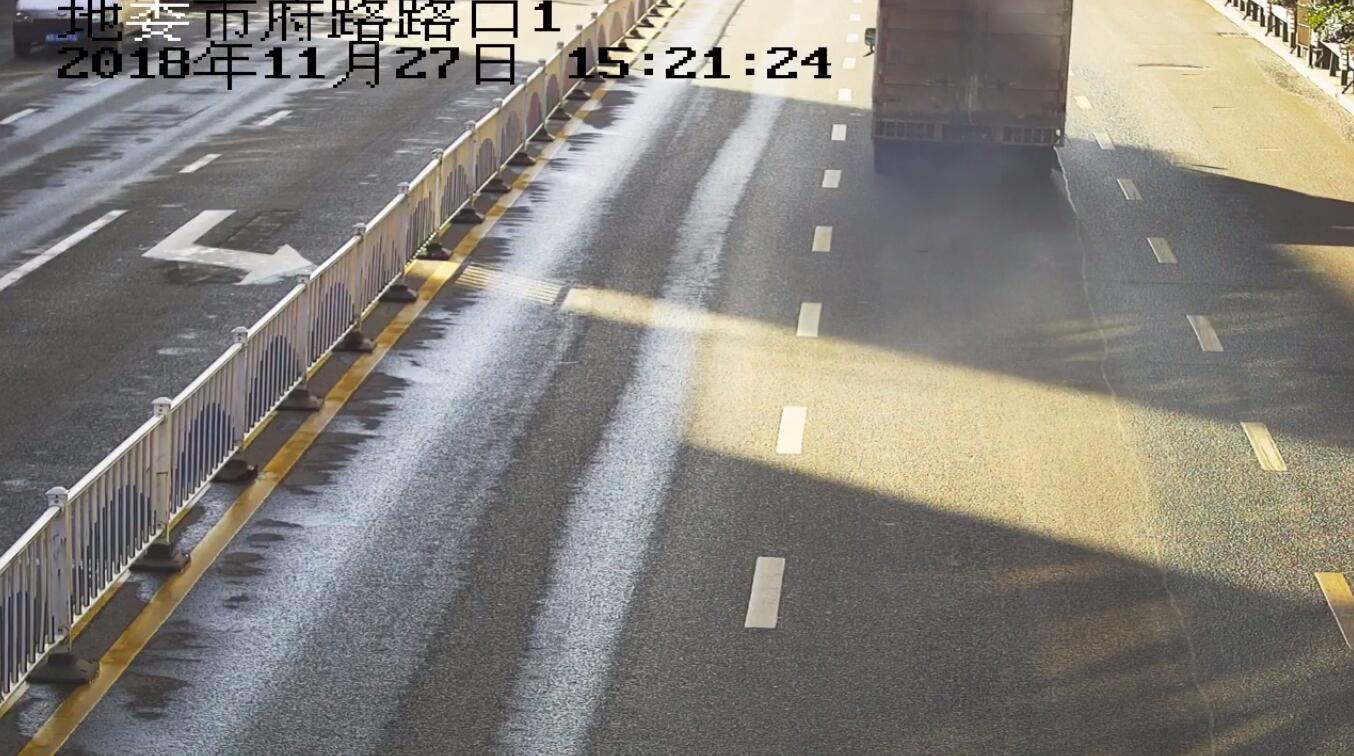yanwu: (896, 140, 1072, 306)
